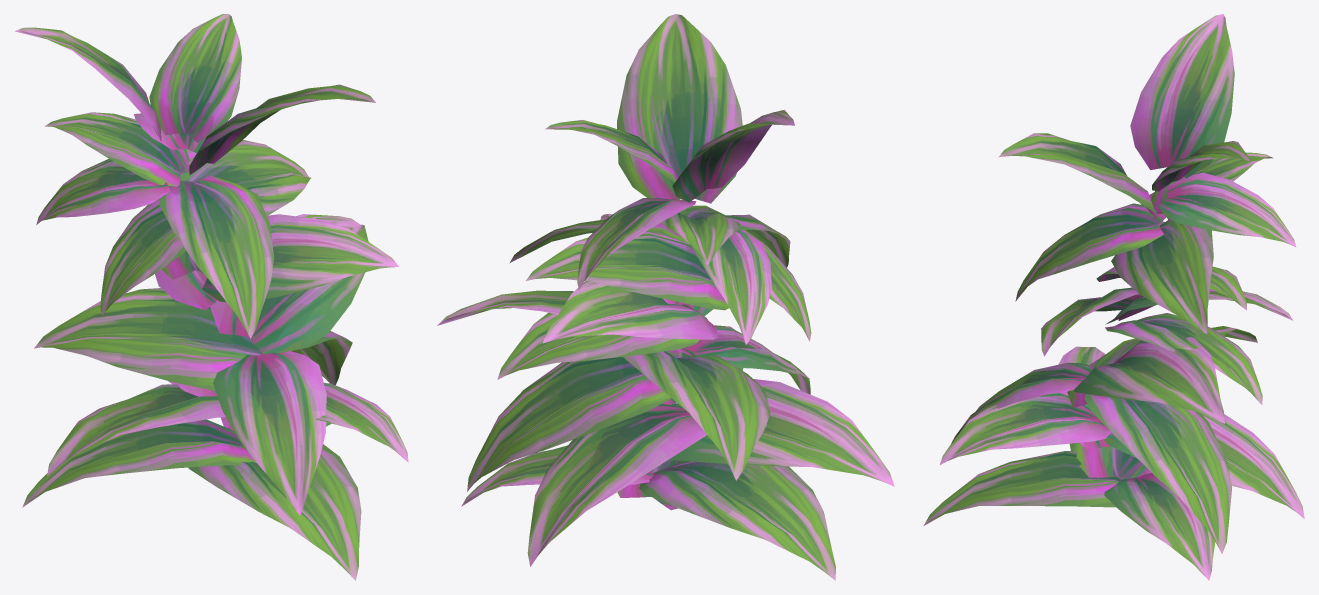
The model's file is mesh_tradescantia.fbx.
3 views of the same model, side by side, from view 1: azimuth 30°, elevation 25°; view 2: azimuth 150°, elevation 25°; view 3: azimuth 270°, elevation 25° (orthographic). The views are drawn at different scales.
Parts seen in each view (by area): view 1: tradescantia; view 2: tradescantia; view 3: tradescantia.
Part boxes in pixels (x1,y1,x2,y2): tradescantia: (15, 14, 408, 580); tradescantia: (437, 14, 894, 580); tradescantia: (923, 14, 1304, 580).
Bounding box in the file's own units: 0.3968 × 0.4742 × 0.3776.
